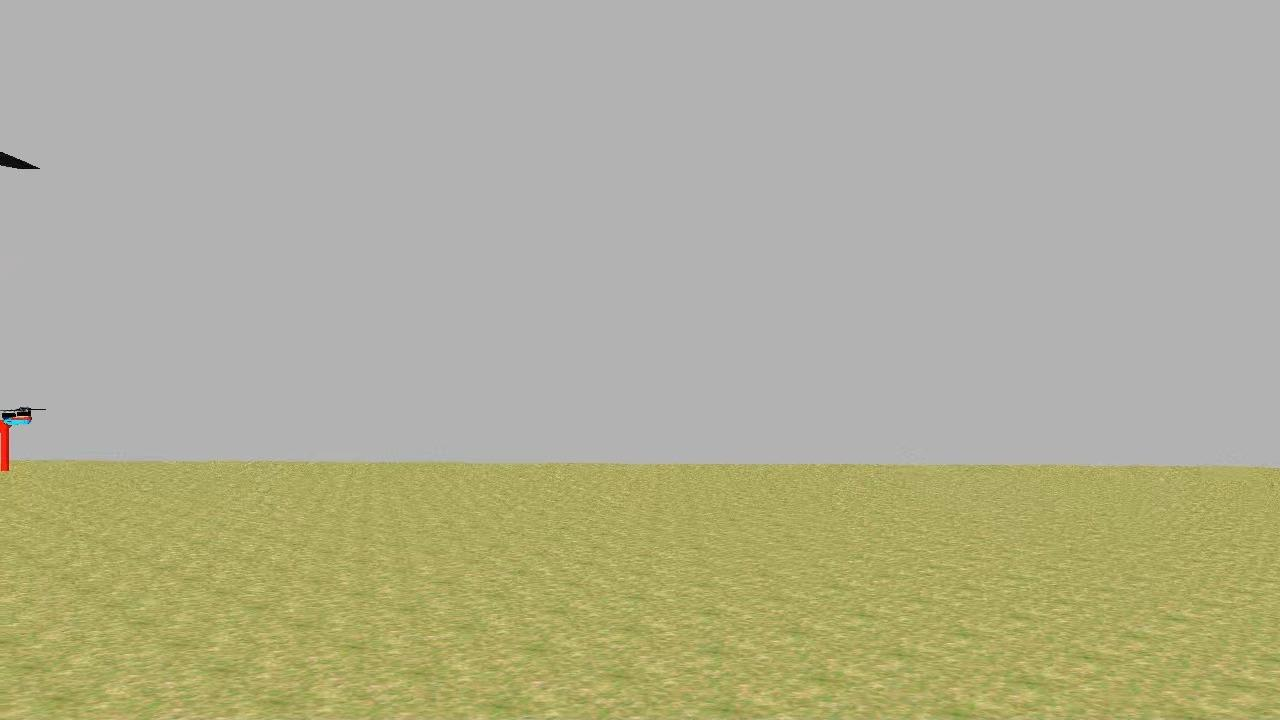UAV: (0, 394, 42, 478)
